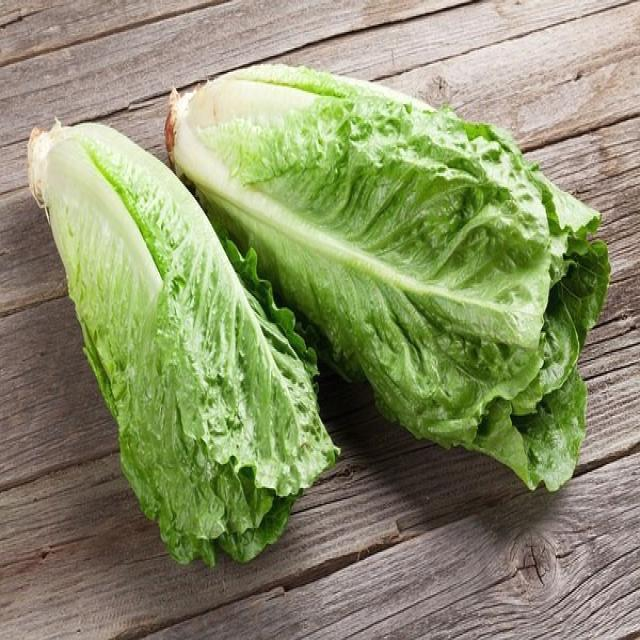Lettuce-Ready-to-Harvest: (164, 61, 606, 496), (26, 117, 320, 567)
